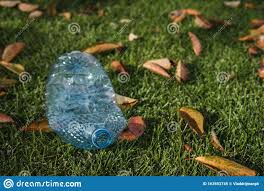plastic_bottle: (43, 48, 132, 153)
